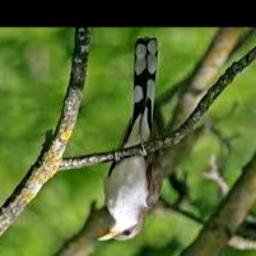Cuckoo: (97, 37, 166, 241)
